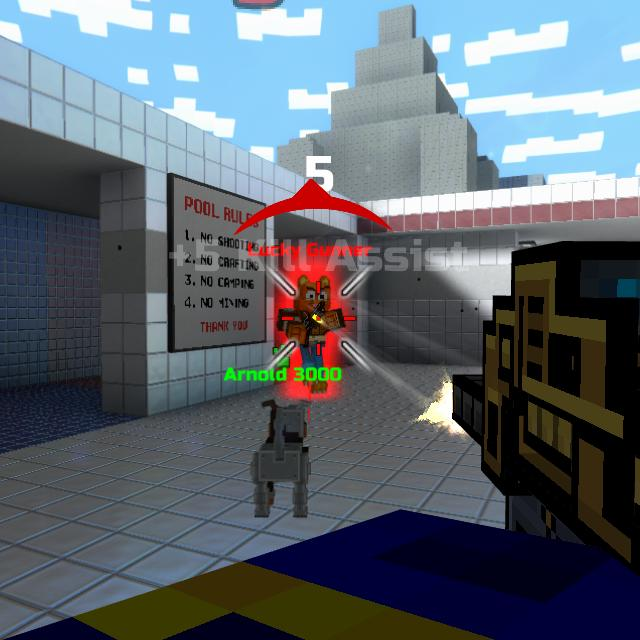Enemy: (279, 276, 348, 396)
